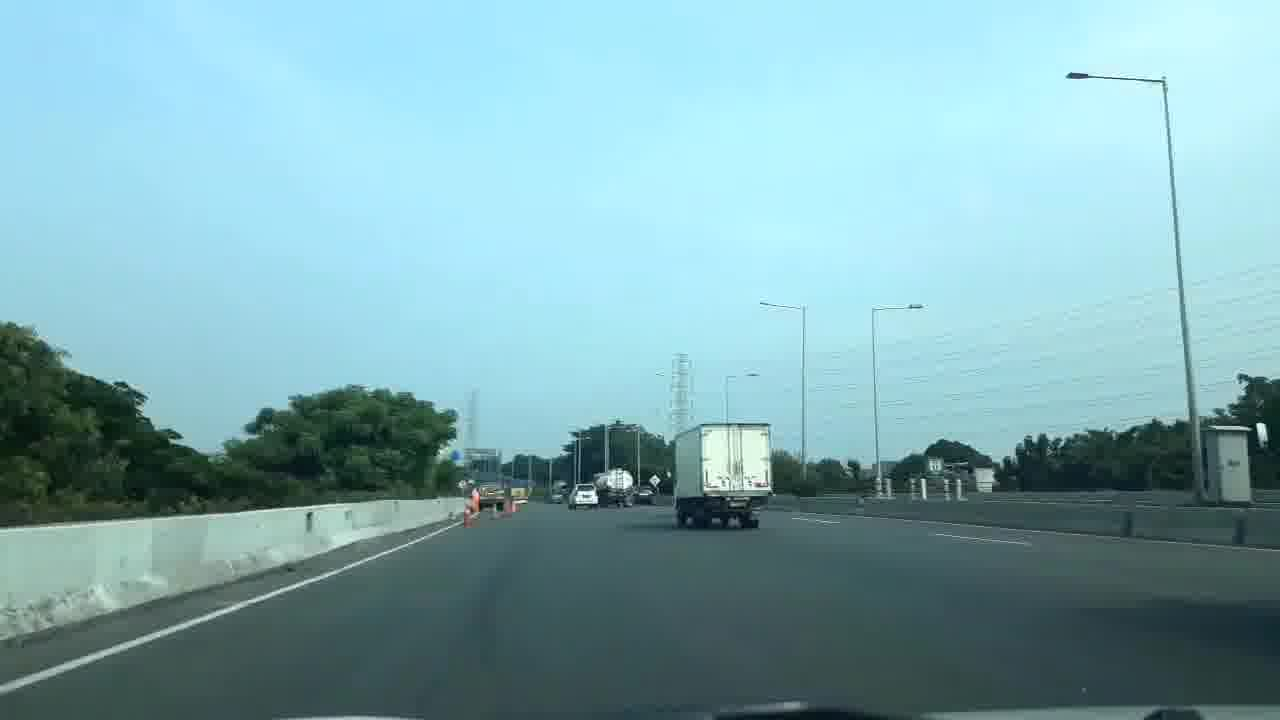plate_positive: (729, 500, 748, 508)
